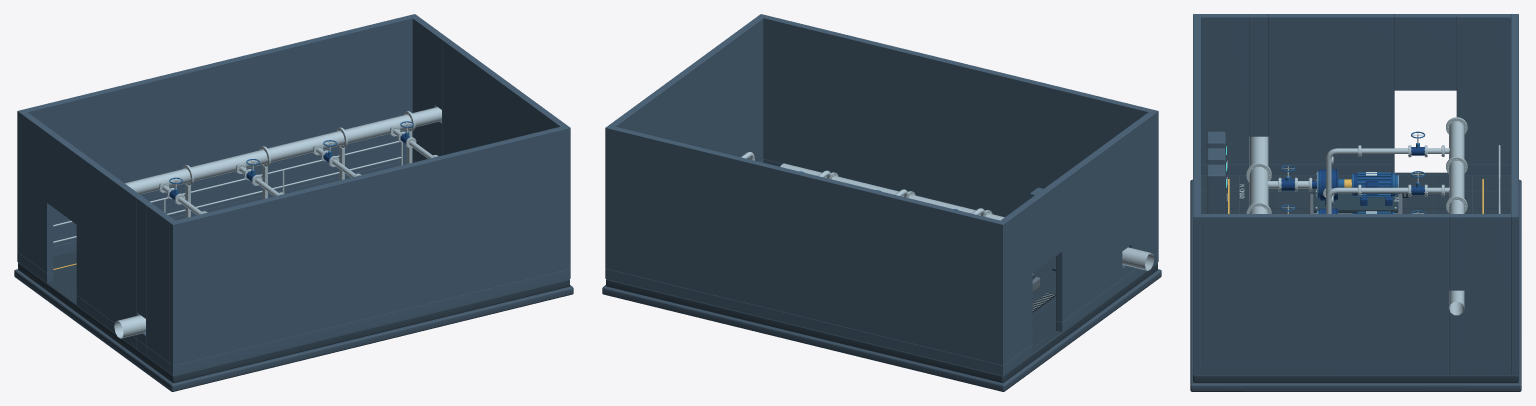
File: pump-room.glb
3 renders of one model, left to right at view 1: azimuth 30°, elevation 25°; view 2: azimuth 150°, elevation 25°; view 3: azimuth 270°, elevation 25°, orthographic. The views are drawn at different scales.
Visible parts, largest first — view 1: UpperWalls__wall, Architecture__wall, Floor__floor, Floor__slab, OutletHeader__steel, Architecture__steel, InletHeader__steel; view 2: UpperWalls__wall, Floor__floor, Architecture__wall, Floor__slab, InletHeader__steel; view 3: UpperWalls__wall, Floor__floor, Architecture__wall, Floor__slab, OutletHeader__steel, InletHeader__steel, P-01::base::base__dark, P-01_Pipes__steel, P-02_Pipes__steel, Floor__seam, P-01::motor::housing__blue, P-01::motor::housing__blueEdge (+1 smaller).
Boxes of the visible parts, x1,y1,x2,y2 form: UpperWalls__wall: (17,14,570,365); Architecture__wall: (17,159,570,375); Floor__floor: (18,251,569,382); Floor__slab: (14,269,573,391); OutletHeader__steel: (125,107,441,217); Architecture__steel: (53,141,402,242); InletHeader__steel: (114,315,145,338); UpperWalls__wall: (605,14,1158,365); Floor__floor: (606,256,1157,382); Architecture__wall: (605,159,1158,375); Floor__slab: (602,269,1161,391); InletHeader__steel: (780,163,1154,270); UpperWalls__wall: (1193,14,1518,364); Floor__floor: (1193,172,1518,382); Architecture__wall: (1193,131,1518,374); Floor__slab: (1190,179,1521,391); OutletHeader__steel: (1446,117,1467,315); InletHeader__steel: (1246,136,1271,213); P-01::base::base__dark: (1313,191,1398,212); P-01_Pipes__steel: (1267,145,1449,197); P-02_Pipes__steel: (1326,184,1449,213); Floor__seam: (1201,175,1510,213); P-01::motor::housing__blue: (1354,173,1392,205); P-01::motor::housing__blueEdge: (1352,172,1390,197).
Bounding box in the file's own units: 13.75 × 4.96 × 8.55.
